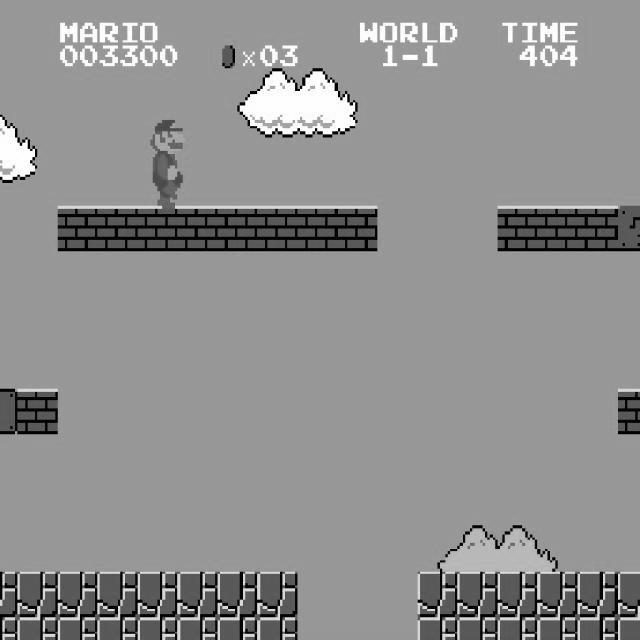0- big_mario: (144, 114, 188, 208)
1- brick_block: (17, 388, 58, 434), (57, 206, 98, 251), (97, 206, 138, 251), (137, 206, 178, 251), (177, 206, 218, 251), (217, 206, 258, 251), (257, 206, 298, 251), (297, 206, 338, 251), (337, 206, 378, 251), (497, 206, 538, 251), (537, 206, 578, 251), (577, 206, 618, 251), (618, 388, 640, 434)
13- mystery_block: (618, 206, 640, 251)
17- undestructible_block: (17, 572, 58, 618), (57, 572, 98, 618), (97, 572, 138, 618), (137, 572, 178, 618), (177, 572, 218, 618), (217, 572, 258, 618), (257, 572, 298, 618), (417, 572, 458, 618), (457, 572, 498, 618), (497, 572, 538, 618), (537, 572, 578, 618), (577, 572, 618, 618), (618, 572, 640, 618), (17, 617, 58, 640), (57, 617, 98, 640), (97, 617, 138, 640), (137, 617, 178, 640), (177, 617, 218, 640), (217, 617, 258, 640), (257, 617, 298, 640), (417, 617, 458, 640), (457, 617, 498, 640), (497, 617, 538, 640), (537, 617, 578, 640), (577, 617, 618, 640), (0, 571, 17, 617), (618, 617, 640, 640), (0, 617, 17, 639)
3- empty_block: (0, 388, 17, 434)
